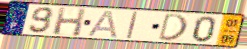0: (192, 15, 218, 44)
9: (27, 6, 55, 35)
A: (86, 9, 119, 39)
D: (156, 12, 189, 42)
H: (52, 7, 88, 38)
I: (125, 11, 140, 40)
